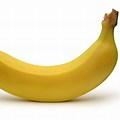banana: (0, 7, 120, 96)
